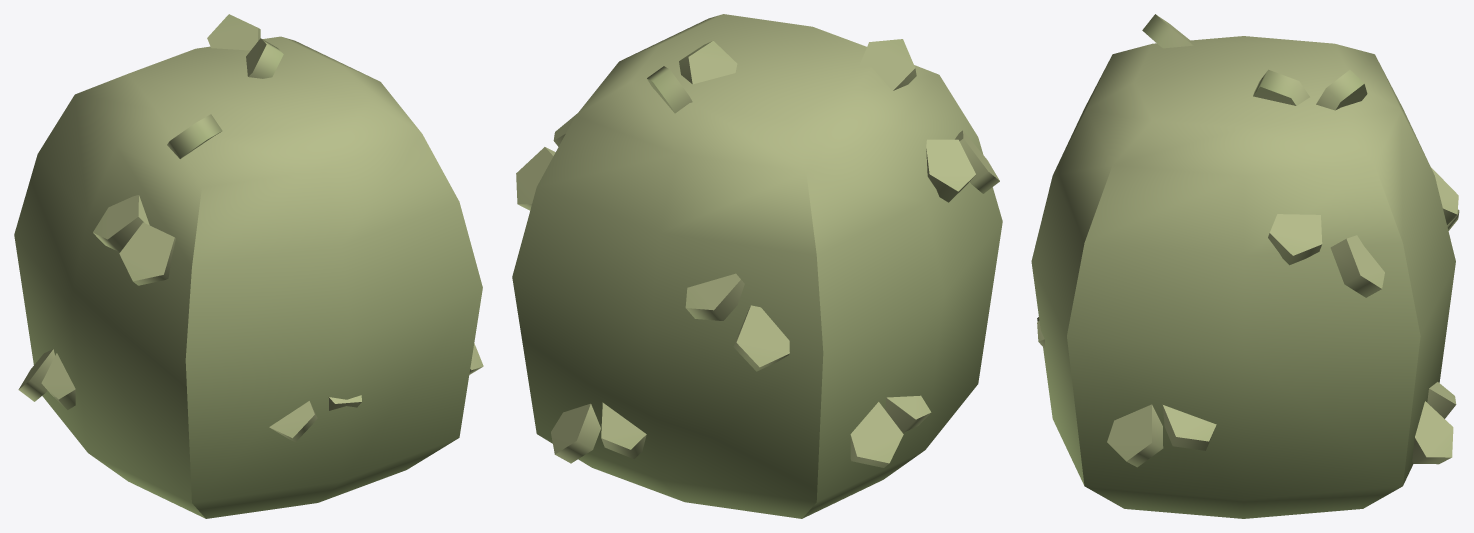
File: bush.glb
3 views of the same model, side by side, from view 1: azimuth 30°, elevation 25°; view 2: azimuth 150°, elevation 25°; view 3: azimuth 270°, elevation 25° (orthographic). The views are drawn at different scales.
Parts seen in each view (by area): view 1: bush; view 2: bush; view 3: bush.
Part boxes in pixels (x1=…): bush: x1=14, y1=14, x2=483, y2=518; bush: x1=512, y1=14, x2=1002, y2=518; bush: x1=1031, y1=14, x2=1459, y2=518.
Size of the model in its own units: 0.7027 by 0.735 by 0.7041.
